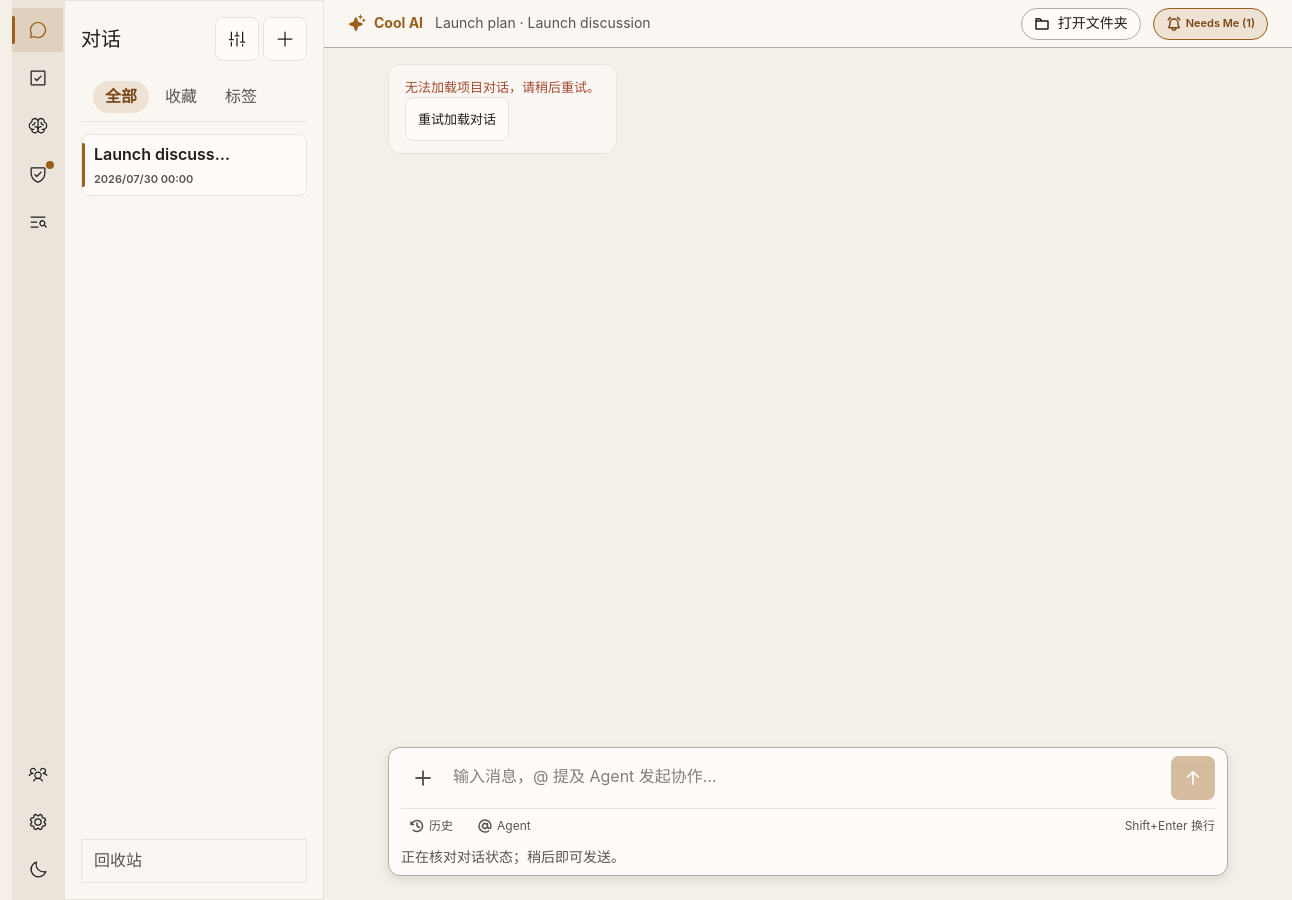
Test: desktop collaboration cockpit › lights Needs Me on the header and 审批 rail when approvals are pending
The width and height of the screenshot is (1292, 900).
expect the button named "审批，有待处理项" is shown: met, box [12,152,63,196]
What coordinates should you click on to do the following:
click the button with aria-label "Needs Me，1 项待处理"
I would click on:
 (1210, 24)
Its box is [1153,8,1268,40].
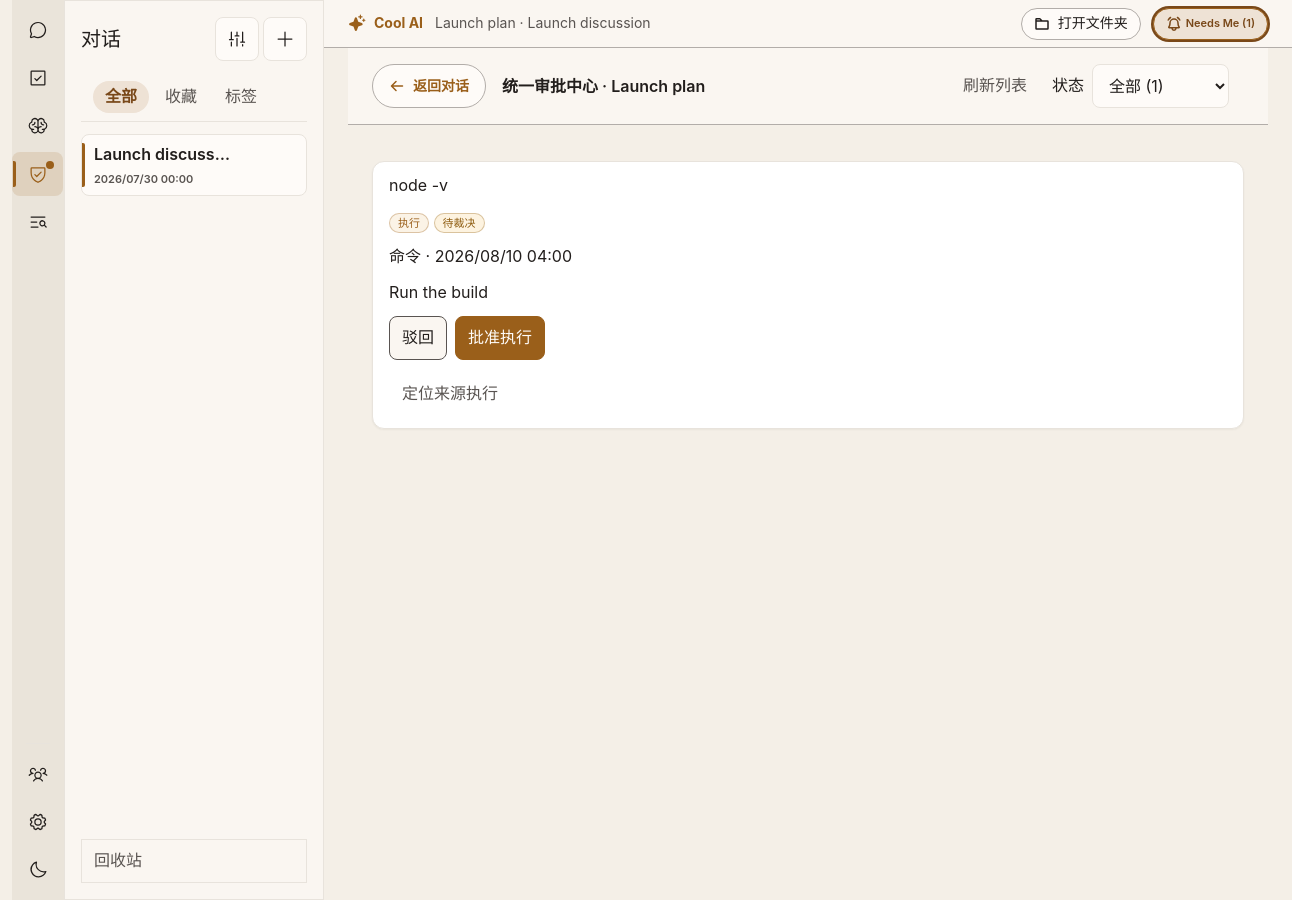
expect the button "返回对话" is shown: met, box [372,64,486,108]
